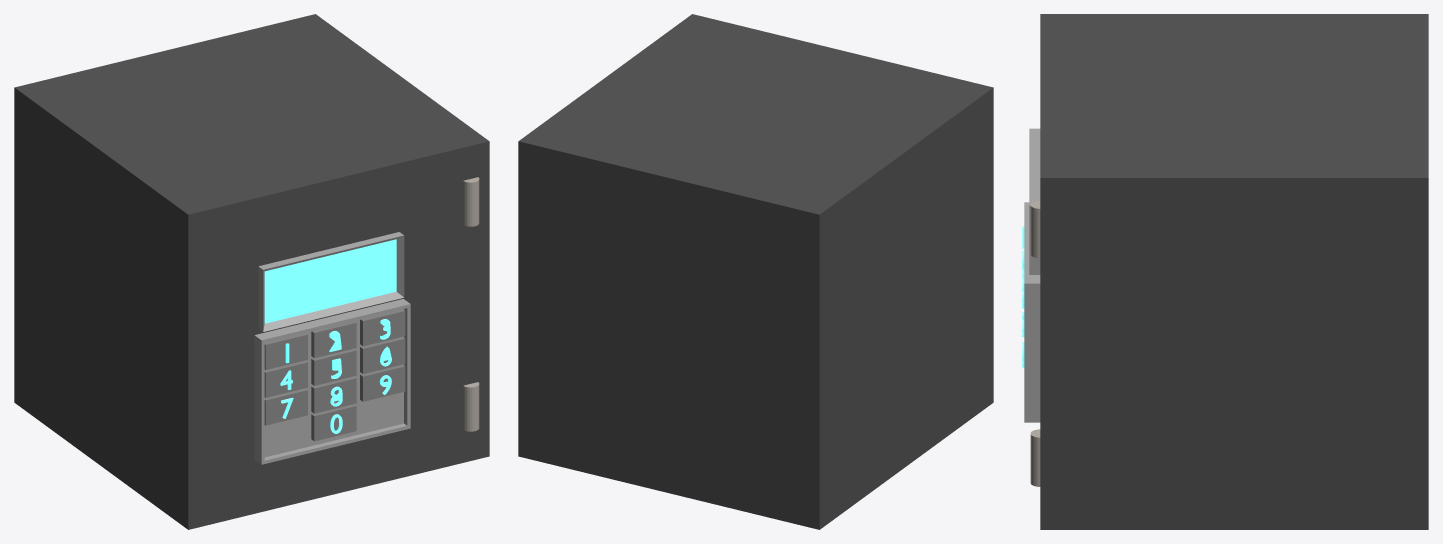
Rendered from Safe.fbx.
3 views of the same model, side by side, from view 1: azimuth 30°, elevation 25°; view 2: azimuth 150°, elevation 25°; view 3: azimuth 270°, elevation 25° (orthographic). The views are drawn at different scales.
Parts seen in each view (by area): view 1: Cube, Cube.002; view 2: Cube; view 3: Cube, Cube.002.
Boxes of the visible parts, x1,y1,x2,y2 form: Cube: (14,14,489,529); Cube.002: (208,166,469,504); Cube: (518,14,993,529); Cube: (1030,14,1428,529); Cube.002: (1022,128,1040,422).
Size of the model in its own units: 200 by 200 by 209.
